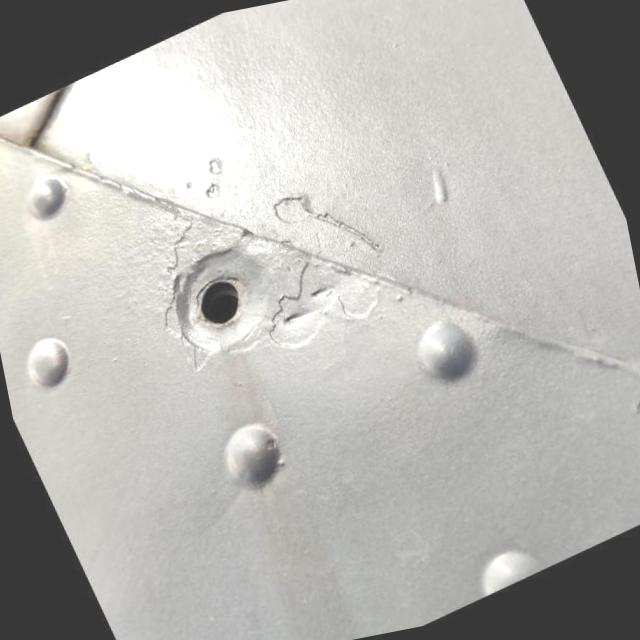Missing Fastener: (164, 240, 285, 360)
